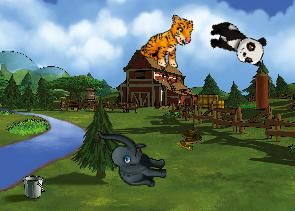elephant: (97, 130, 167, 187)
panda: (203, 17, 270, 69)
tiger: (137, 8, 197, 73)
